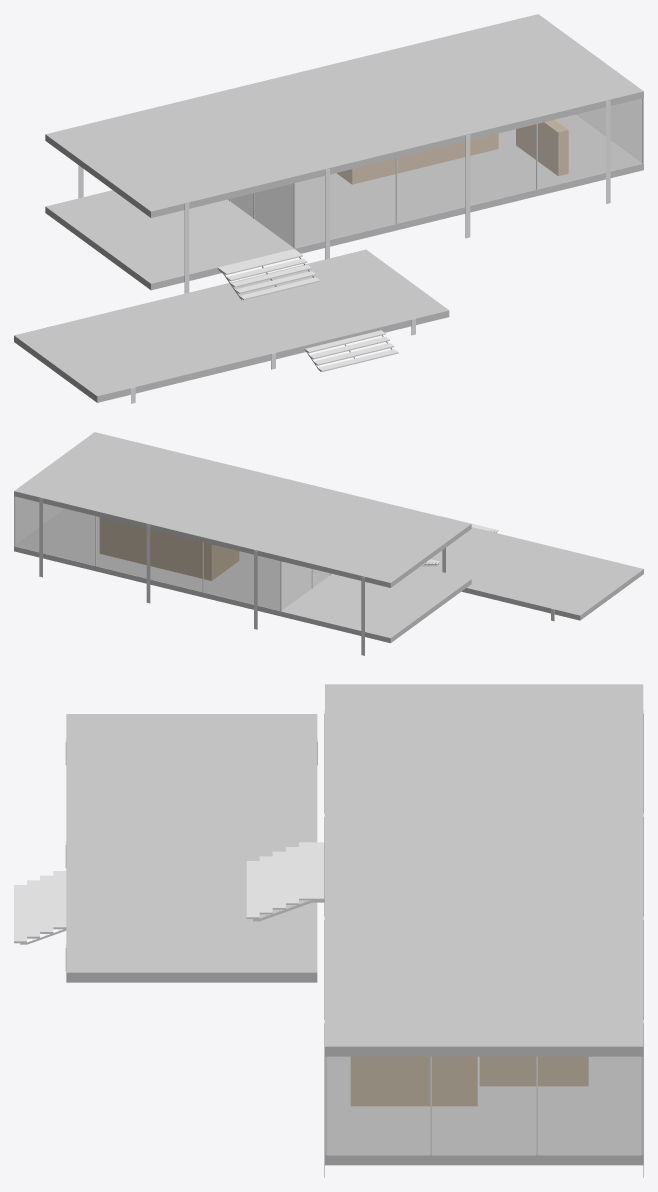
3 views of the same model, one above another, from view 1: azimuth 30°, elevation 25°; view 2: azimuth 150°, elevation 25°; view 3: azimuth 270°, elevation 25° (orthographic). The views are drawn at different scales.
Visible parts, largest first — view 1: Node481, Node482, Node781, Node1, Node2, Node797, Node798, Node782, Node817, Node793, Node485, Node486 (+8 smaller); view 2: Node481, Node482, Node782, Node1, Node781, Node799, Node800, Node2, Node823, Node824, Node795, Node491 (+7 smaller); view 3: Node482, Node481, Node1, Node2, Node782, Node794, Node793, Node807, Node819, Node808, Node781, Node788 (+7 smaller).
Boxes of the visible parts, box(x1,y1,x2,y2) form: Node481: box(46, 91, 643, 211); Node482: box(46, 14, 643, 134); Node781: box(46, 163, 642, 283); Node1: box(14, 310, 447, 396); Node2: box(15, 249, 448, 335); Node797: box(295, 163, 641, 247); Node798: box(298, 98, 642, 182); Node782: box(47, 114, 641, 206); Node817: box(352, 143, 497, 184); Node793: box(577, 99, 641, 161); Node485: box(151, 94, 631, 217); Node486: box(160, 91, 643, 215); Node481: box(95, 432, 470, 582); Node482: box(14, 432, 389, 582); Node782: box(15, 509, 389, 637); Node1: box(450, 527, 643, 615); Node781: box(239, 551, 470, 637); Node799: box(15, 496, 279, 610); Node800: box(17, 497, 280, 610); Node2: box(422, 544, 579, 615); Node823: box(99, 517, 210, 580); Node824: box(114, 520, 211, 580); Node795: box(281, 561, 331, 609); Node491: box(14, 491, 382, 581); Node482: box(325, 685, 643, 1046); Node481: box(325, 684, 642, 1046); Node1: box(66, 714, 316, 972); Node2: box(67, 714, 317, 972); Node782: box(327, 1056, 641, 1155); Node794: box(329, 1056, 641, 1154); Node793: box(327, 1056, 640, 1154); Node807: box(350, 1056, 476, 1106); Node819: box(479, 1056, 587, 1086); Node808: box(383, 1056, 477, 1105); Node781: box(327, 1056, 367, 1152); Node788: box(329, 1155, 643, 1165).
Size of the model in its own units: 1191 by 186 by 682.
